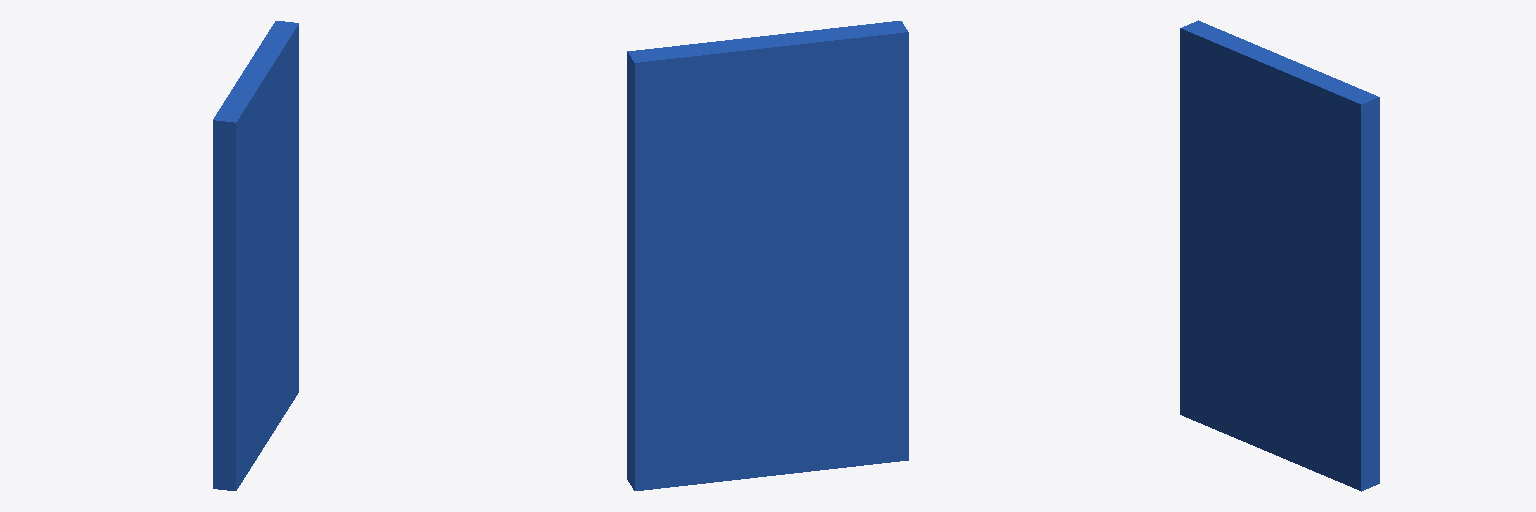
The robot description file, URDF, robot "Domino_12":
<robot name="Domino_12" version="1.0">
  <link name="Domino_12_link">
    <collision name="Cube.011_collision">
      <origin rpy="0.00000 0.00000 0.78540" xyz="-0.32117 0.85963 0.25000"/>
      <geometry>
        <box size="0.30000 0.03000 0.50000"/>
      </geometry>
    </collision>
    <inertial>
      <inertia ixx="0.00246" ixy="-0.00037" ixz="0.00000" iyy="0.00246" iyz="0.00000" izz="0.00076"/>
      <origin rpy="0.00000 0.00000 0.00000" xyz="-0.32117 0.85963 0.25000"/>
      <mass value="0.10000"/>
    </inertial>
    <visual name="Cube.011">
      <material name="turnarrow"/>
      <origin rpy="0.00000 0.00000 0.78540" xyz="-0.32117 0.85963 0.25000"/>
      <geometry>
        <box size="0.30000 0.03000 0.50000"/>
      </geometry>
    </visual>
  </link>
  <material name="turnarrow">
    <color rgba="0.23137 0.44706 0.80000 1.00000"/>
  </material>
</robot>

--- Render facts (derived) ---
Views: 3 orthographic renders of the robot side by side, from view 1: azimuth 30°, elevation 25°; view 2: azimuth 150°, elevation 25°; view 3: azimuth 270°, elevation 25°.
Model Domino_12 with 1 links and 0 joints (none), rooted at Domino_12_link, posed every joint at zero.
Visible links, largest first — view 1: Domino_12_link; view 2: Domino_12_link; view 3: Domino_12_link.
Boxes of the visible links, x1,y1,x2,y2 form: Domino_12_link: (213, 21, 298, 490); Domino_12_link: (627, 21, 908, 490); Domino_12_link: (1180, 20, 1379, 491).
Size in the robot's own frame: 0.2333 by 0.2333 by 0.5 metres.
Geometry: primitives only (box / cylinder / sphere), no mesh files.